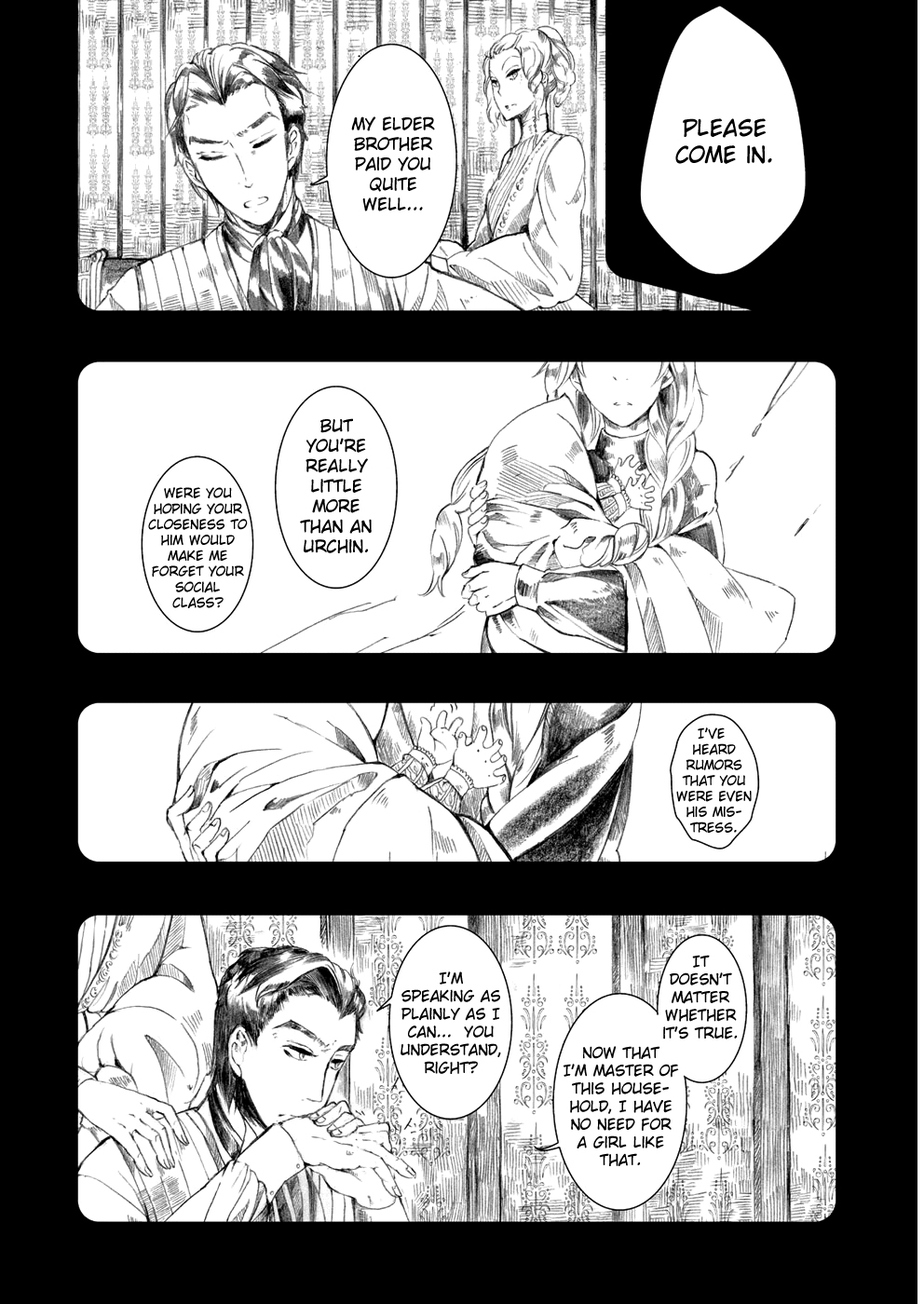bubble: (638, 5, 807, 275), (312, 43, 457, 282), (536, 994, 687, 1209), (376, 924, 513, 1120), (275, 385, 399, 587), (141, 456, 255, 632), (656, 934, 747, 1084), (669, 713, 759, 848)
